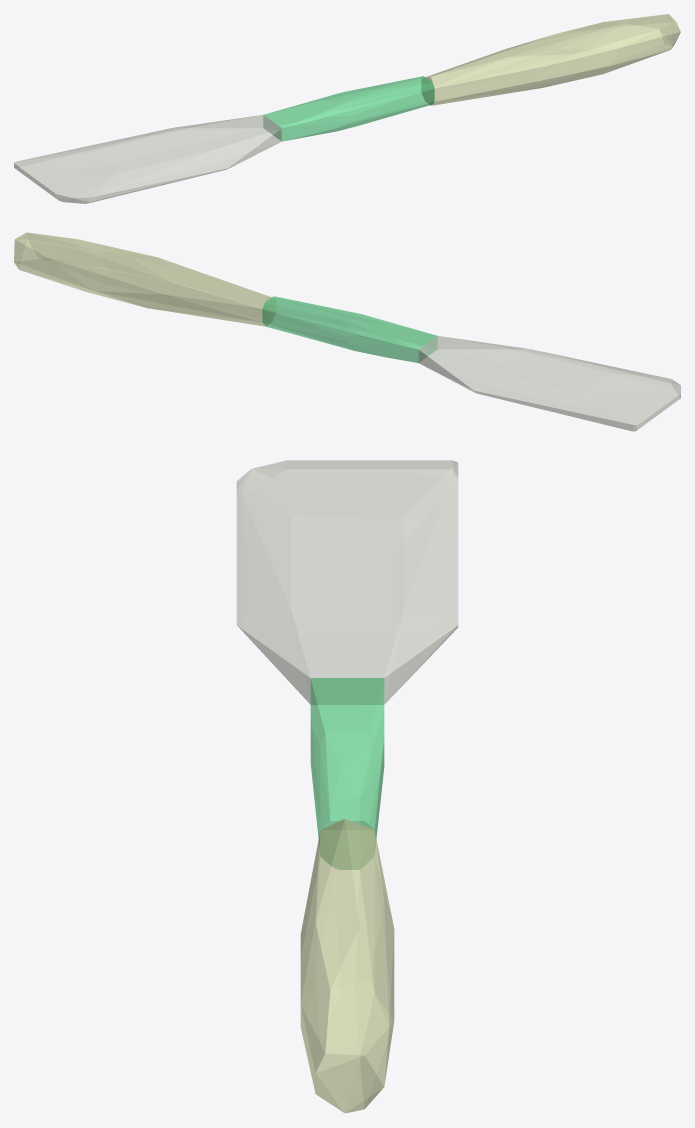
Rendered from spatula_dec.dae.
The picture shows the model from 3 angles, top to bottom: view 1: azimuth 30°, elevation 25°; view 2: azimuth 150°, elevation 25°; view 3: azimuth 270°, elevation 25°; orthographic projection. The views are drawn at different scales.
Visible parts, largest first — view 1: Shape_IndexedFaceSet, Shape_IndexedFaceSet_002, Shape_IndexedFaceSet_001; view 2: Shape_IndexedFaceSet, Shape_IndexedFaceSet_002, Shape_IndexedFaceSet_001; view 3: Shape_IndexedFaceSet, Shape_IndexedFaceSet_002, Shape_IndexedFaceSet_001.
Boxes of the visible parts, x1,y1,x2,y2 form: Shape_IndexedFaceSet: [14, 115, 281, 203]; Shape_IndexedFaceSet_002: [421, 14, 680, 105]; Shape_IndexedFaceSet_001: [263, 76, 434, 141]; Shape_IndexedFaceSet: [418, 335, 680, 431]; Shape_IndexedFaceSet_002: [14, 232, 275, 326]; Shape_IndexedFaceSet_001: [262, 296, 437, 362]; Shape_IndexedFaceSet: [236, 460, 458, 704]; Shape_IndexedFaceSet_002: [300, 818, 394, 1113]; Shape_IndexedFaceSet_001: [310, 678, 384, 869].
Bounding box in the file's own units: 0.3292 × 0.0499 × 0.0222.
